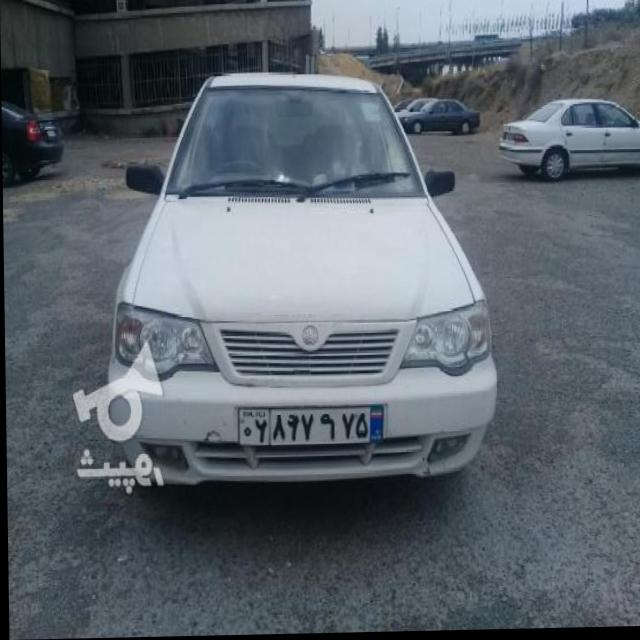licence: (236, 398, 389, 451)
